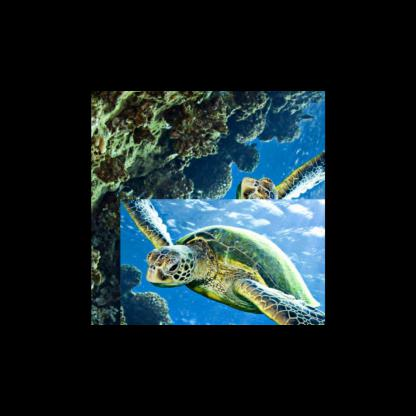turtle: (144, 174, 324, 322)
